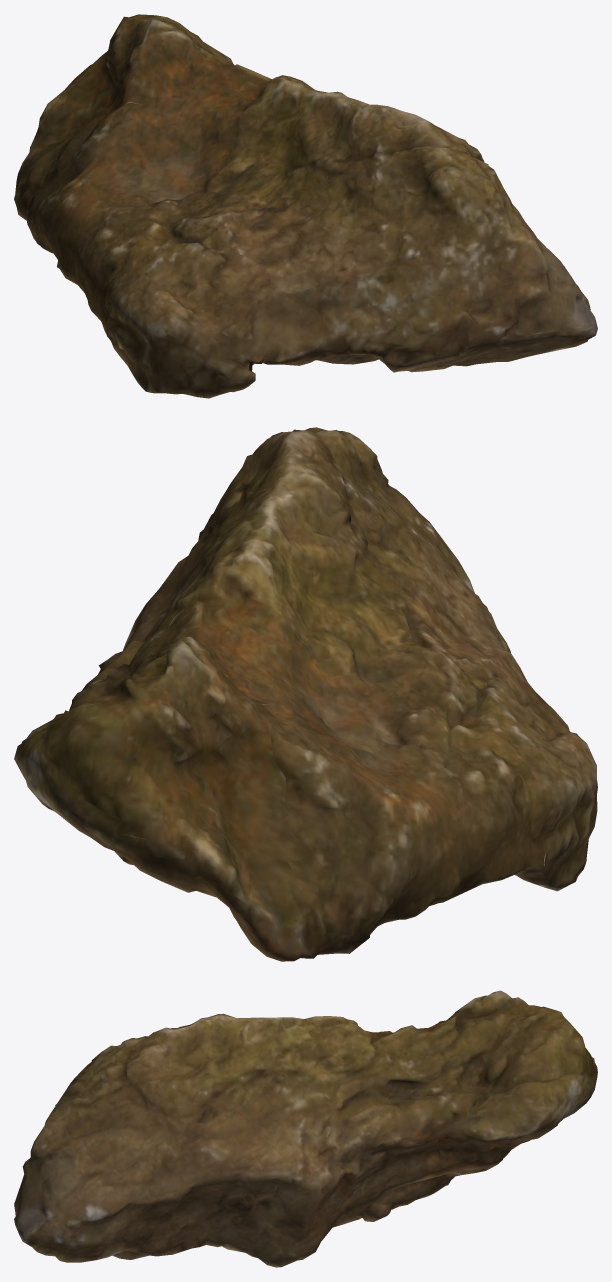
File: moss_rock_1.glb
3 views of the same model, one above another, from view 1: azimuth 30°, elevation 25°; view 2: azimuth 150°, elevation 25°; view 3: azimuth 270°, elevation 25° (orthographic). The views are drawn at different scales.
Parts seen in each view (by area): view 1: moss_rock_1; view 2: moss_rock_1; view 3: moss_rock_1.
Part boxes in pixels (x1,y1,x2,y2): moss_rock_1: [14, 14, 597, 398]; moss_rock_1: [14, 427, 597, 961]; moss_rock_1: [14, 990, 597, 1267].
Size of the model in its own units: 0.6644 by 0.4372 by 1.
1 material, 1 textured.
